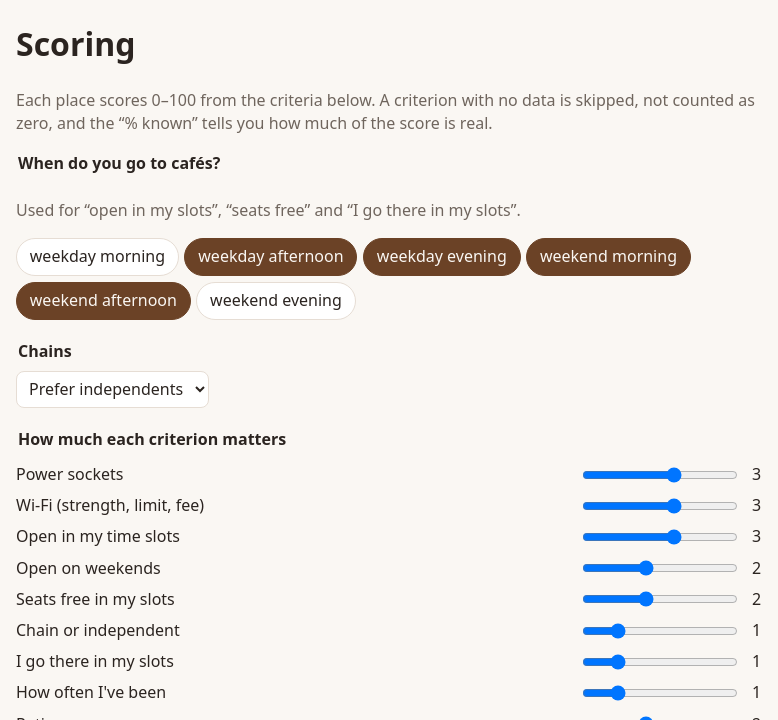
Test case: PreferencesPage › edits slots, chain preference and weights, and resets
Click the button "weekday evening" at (442, 257), box x1=363 y1=238 x2=520 y2=276
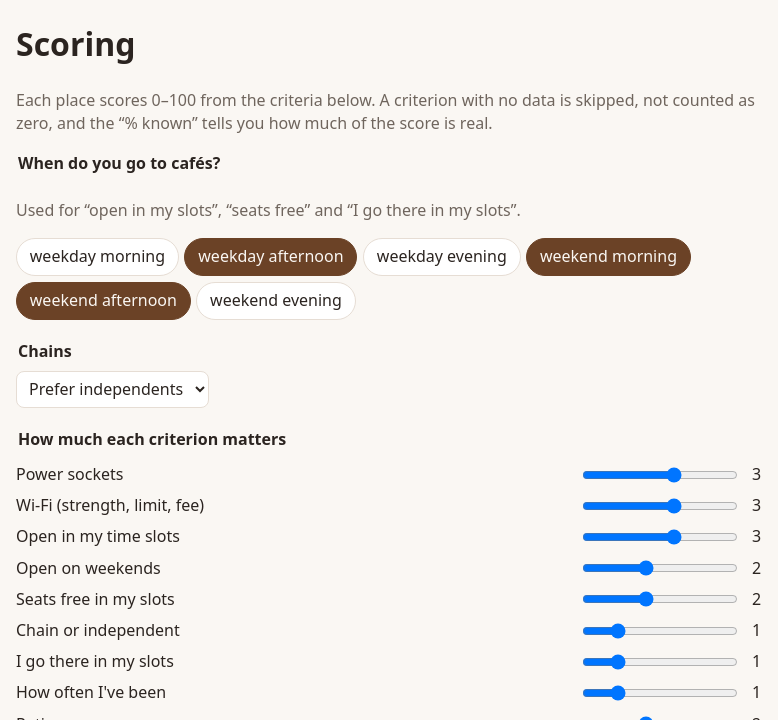
Result: the button "weekday evening" is not pressed at x1=363 y1=238 x2=520 y2=276
Click the button "weekday morning" at (97, 257), box x1=16 y1=238 x2=179 y2=276
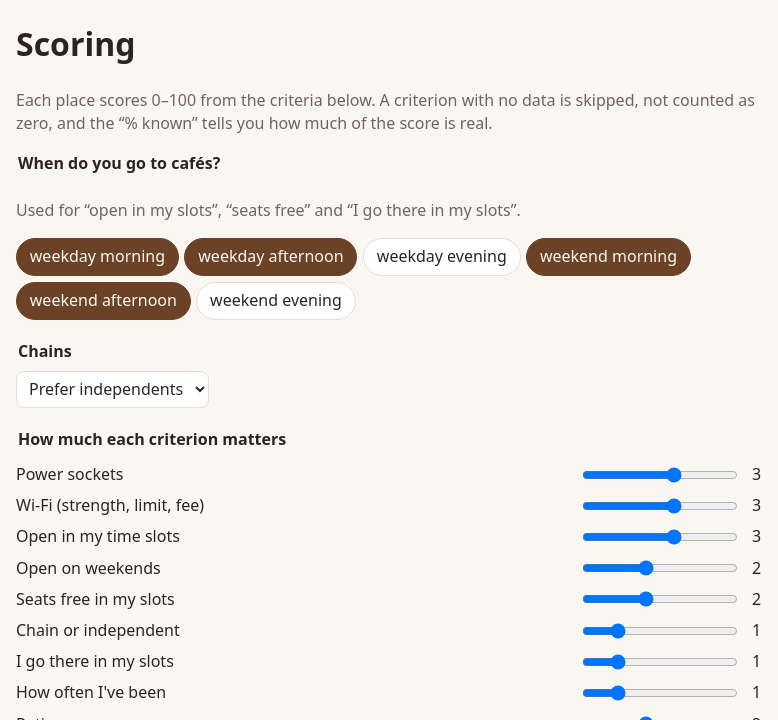
Result: the button "weekday morning" is pressed at x1=16 y1=238 x2=179 y2=276
Select "Don't care" in the dropdown named "Chain preference" at (112, 389), box x1=16 y1=371 x2=209 y2=408
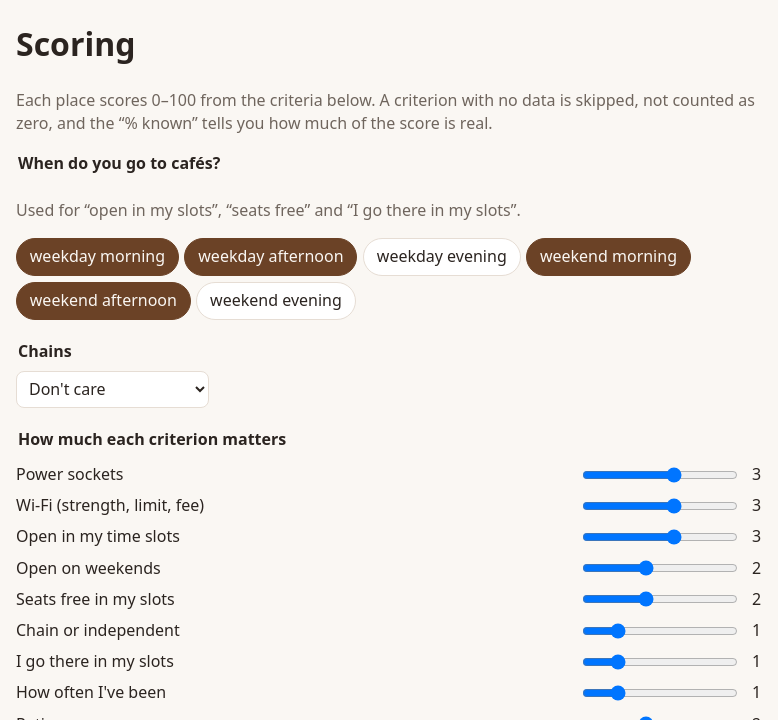
Set the slider labelled "Power sockets 3" to "5" at (730, 475), box x1=582 y1=467 x2=738 y2=483
(page scrolled)
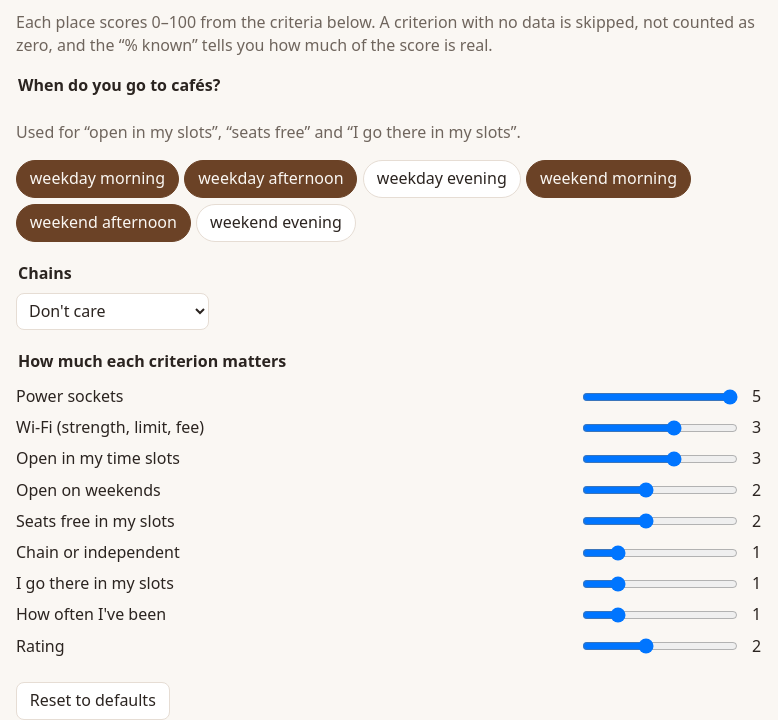
Click the button "Reset to defaults" at (93, 701), box x1=16 y1=682 x2=170 y2=719
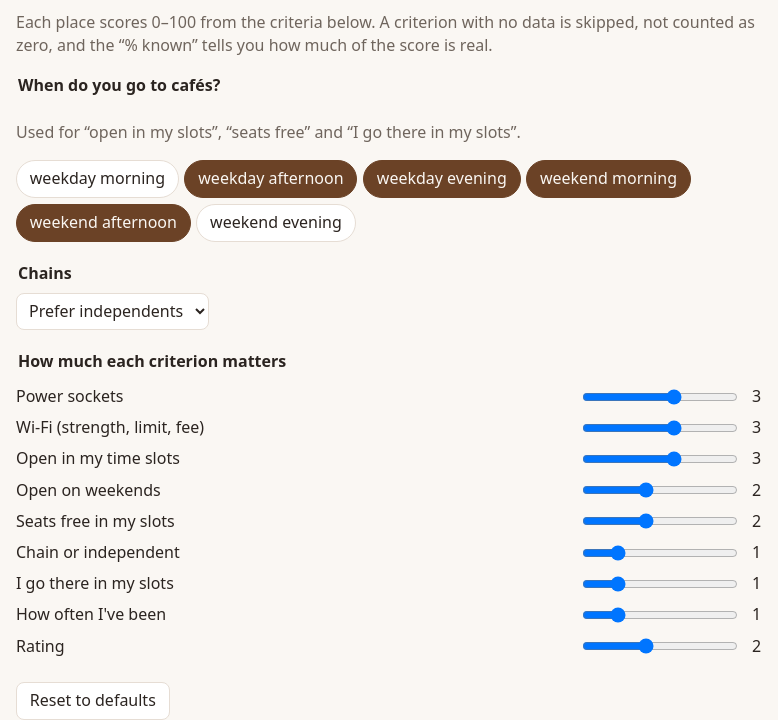
Result: the slider labelled "Power sockets 3" holds "3" at x1=582 y1=389 x2=738 y2=405
